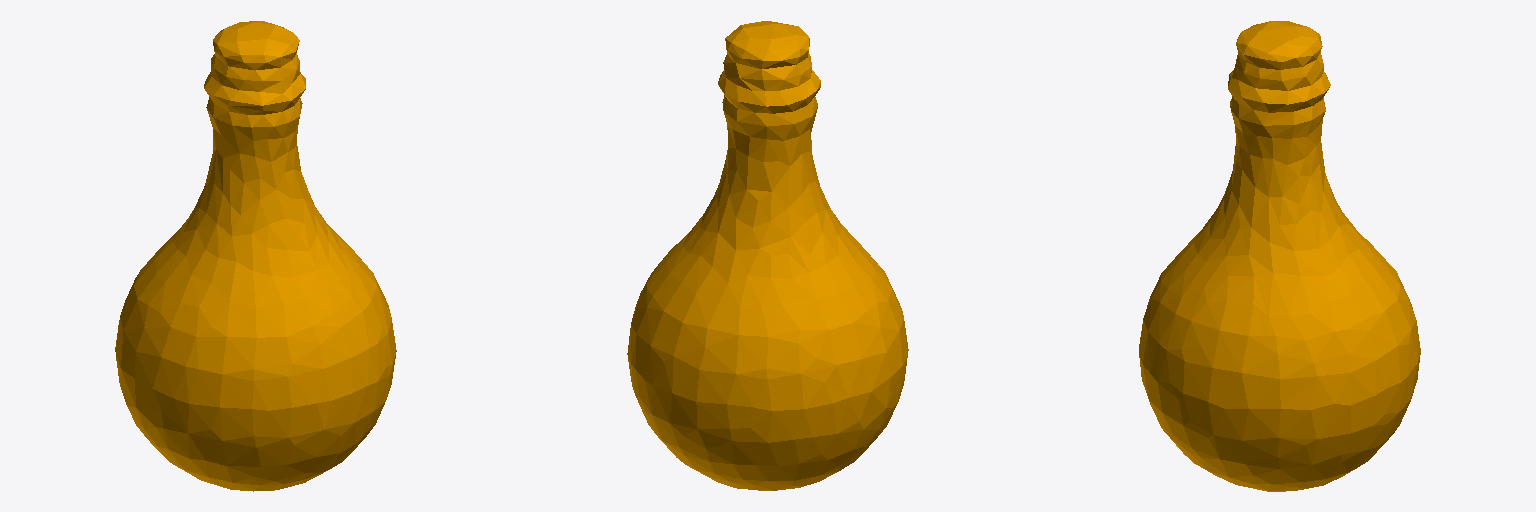
The robot description file, URDF, robot "light_bulb_poisson_010":
<?xml version="1.0"?>
<robot name="light_bulb_poisson_010">
  <link name="base_link">
    <contact>
      <lateral_friction value="1.0"/>
      <rolling_friction value="0.0"/>
      <contact_cfm value="0.0"/>
      <contact_erp value="1.0"/>
    </contact>
    <inertial>
      <mass value="0.131423329955"/>
      <inertia ixx="1" ixy="0" ixz="0" iyy="1" iyz="0" izz="1"/>
    </inertial>
    <visual>
      <geometry>
        <mesh filename="light_bulb_poisson_010_visual.obj"/>
      </geometry>
    </visual>
    <collision>
      <geometry>
        <mesh filename="light_bulb_poisson_010_collision.obj"/>
      </geometry>
    </collision>
  </link>
</robot>

--- What the picture shows (computed from the rendered views, not written in the file) ---
The picture shows the robot from 3 angles, left to right: view 1: azimuth 30°, elevation 25°; view 2: azimuth 150°, elevation 25°; view 3: azimuth 270°, elevation 25°; orthographic projection.
Model light_bulb_poisson_010 with 1 links and 0 joints (none), rooted at base_link, posed all joints at 0.
Visible links, largest first — view 1: base_link; view 2: base_link; view 3: base_link.
Boxes of the visible links, x1,y1,x2,y2 form: base_link: (115, 21, 396, 491); base_link: (627, 21, 908, 490); base_link: (1139, 21, 1420, 491).
Size in the robot's own frame: 0.0683 by 0.0682 by 0.1196 metres.
Meshes: 1 distinct files referenced, 1 mesh visuals loaded (1 OBJ).